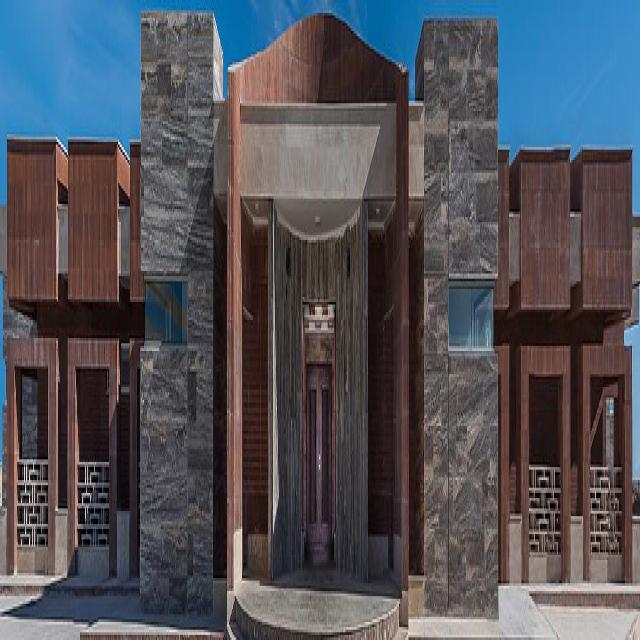door: (306, 362, 332, 564)
wall: (0, 8, 633, 637)
windows: (448, 286, 494, 346), (144, 282, 187, 346)
